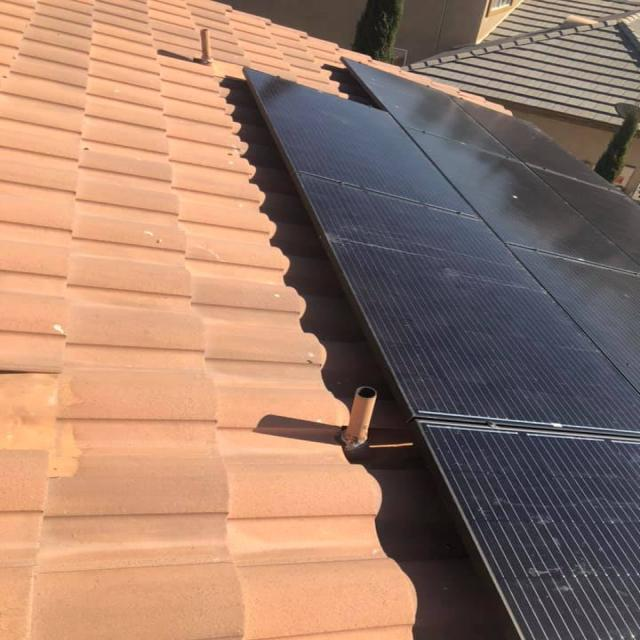dust-solar-panel: (308, 172, 640, 640)
